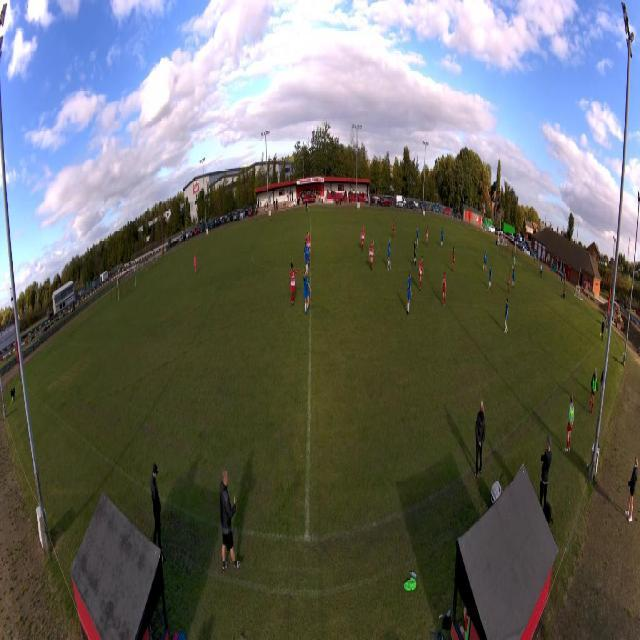ball: (512, 265, 513, 269)
player: (288, 261, 302, 307), (303, 268, 312, 316), (407, 268, 412, 315), (419, 255, 425, 293), (305, 230, 311, 264), (304, 241, 310, 273), (442, 272, 447, 308), (370, 240, 375, 270), (412, 238, 417, 268), (504, 297, 508, 334), (387, 239, 391, 270), (488, 264, 492, 291), (361, 226, 365, 252), (511, 265, 515, 290), (483, 250, 487, 274), (193, 253, 197, 274), (507, 271, 510, 298), (453, 247, 456, 273), (392, 218, 395, 239), (426, 226, 429, 247), (416, 226, 419, 247), (441, 227, 444, 247), (513, 256, 516, 270)
